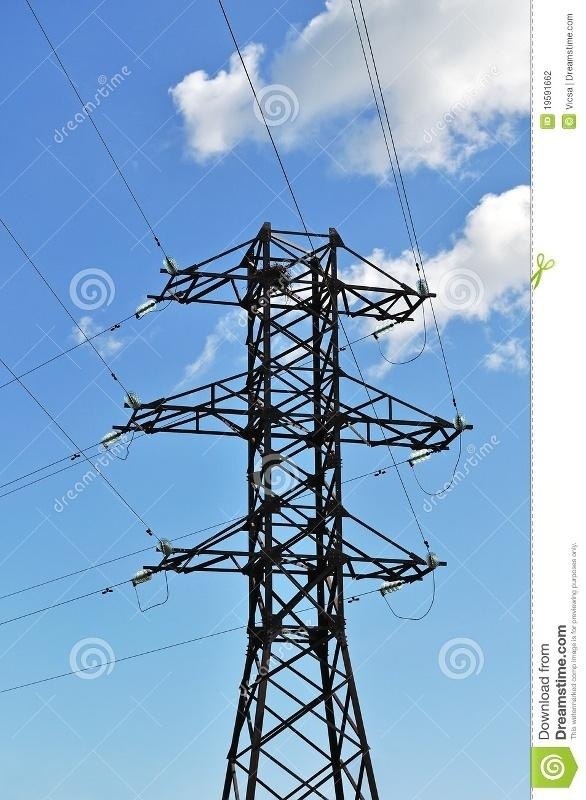power_tower: (122, 221, 452, 788)
